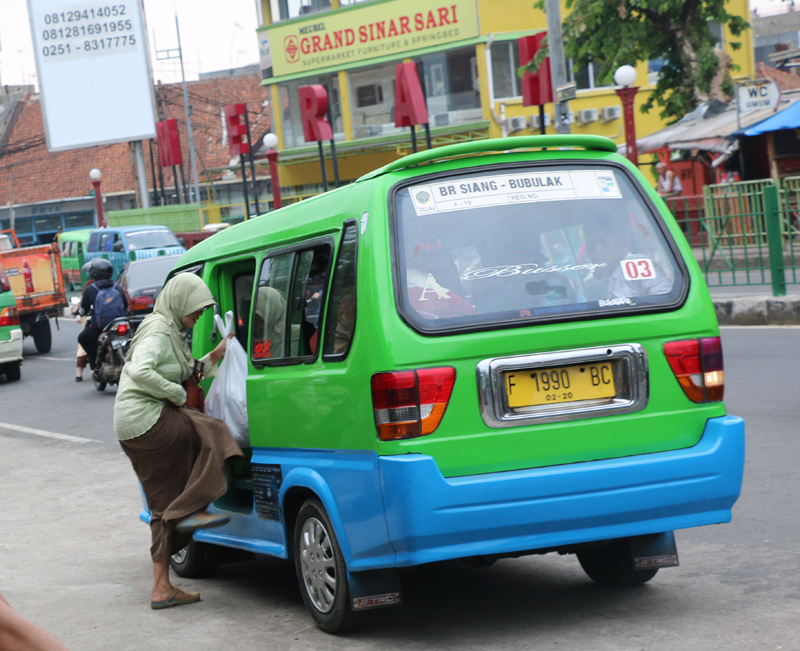plate: (506, 362, 615, 406)
